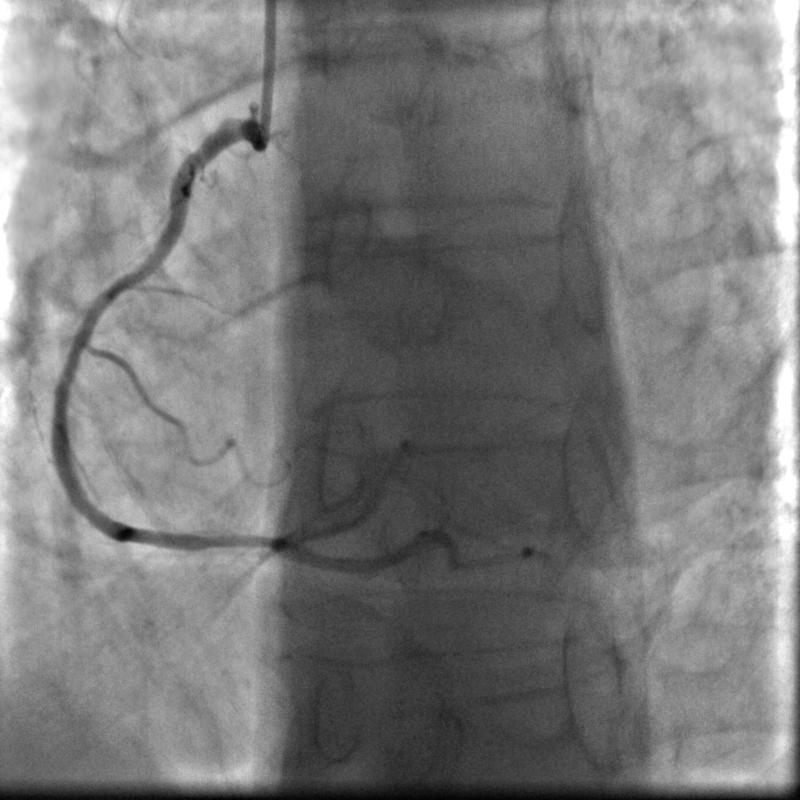Stenosis: (141, 509, 274, 567)
